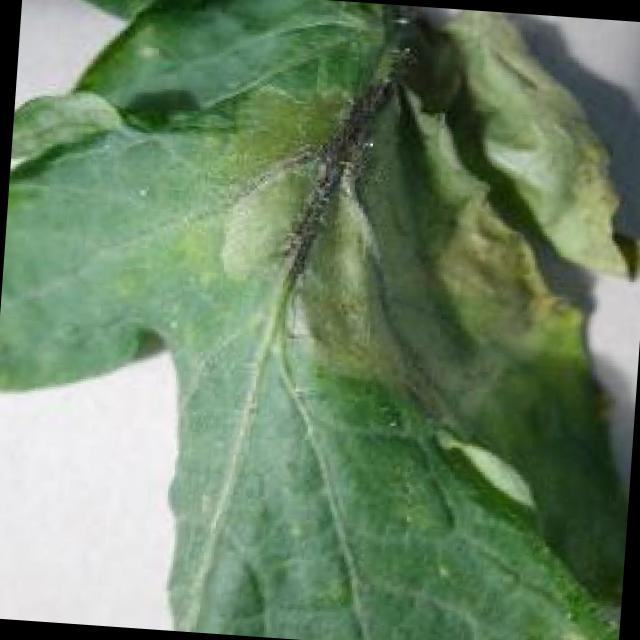Tomato_Late_Blight: (202, 0, 640, 452)
